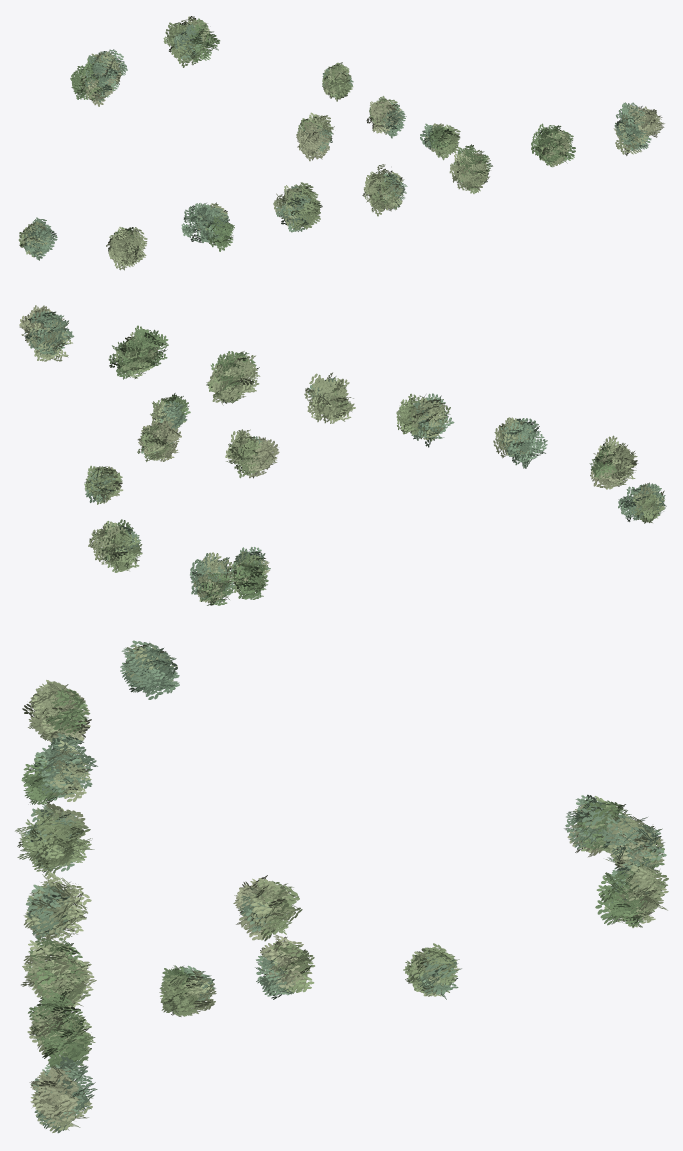
Rendered from campus-tree--3_-1-middle.glb.
3 renders of one model, top to bottom at view 1: azimuth 30°, elevation 25°; view 2: azimuth 150°, elevation 25°; view 3: azimuth 270°, elevation 25°, orthographic. The views are drawn at different scales.
Visible parts, largest first — view 1: Campus leaf canopy; view 2: Campus leaf canopy; view 3: Campus leaf canopy.
Part boxes in pixels (bbox=[...]): Campus leaf canopy: bbox=[18, 16, 664, 270]; Campus leaf canopy: bbox=[19, 305, 666, 605]; Campus leaf canopy: bbox=[15, 640, 668, 1133].
Size of the model in its own units: 79.84 by 7.23 by 49.15.
Materials: 1 (1 with a texture image).
